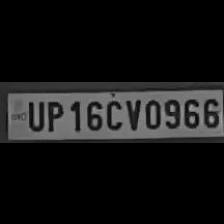0: (142, 95, 160, 129)
1: (65, 97, 83, 131)
6: (82, 96, 102, 130), (200, 94, 220, 128), (181, 94, 199, 128)
9: (161, 95, 179, 129)
C: (103, 96, 123, 130)
P: (44, 97, 64, 131)
U: (23, 97, 44, 131)
V: (123, 96, 141, 130)
